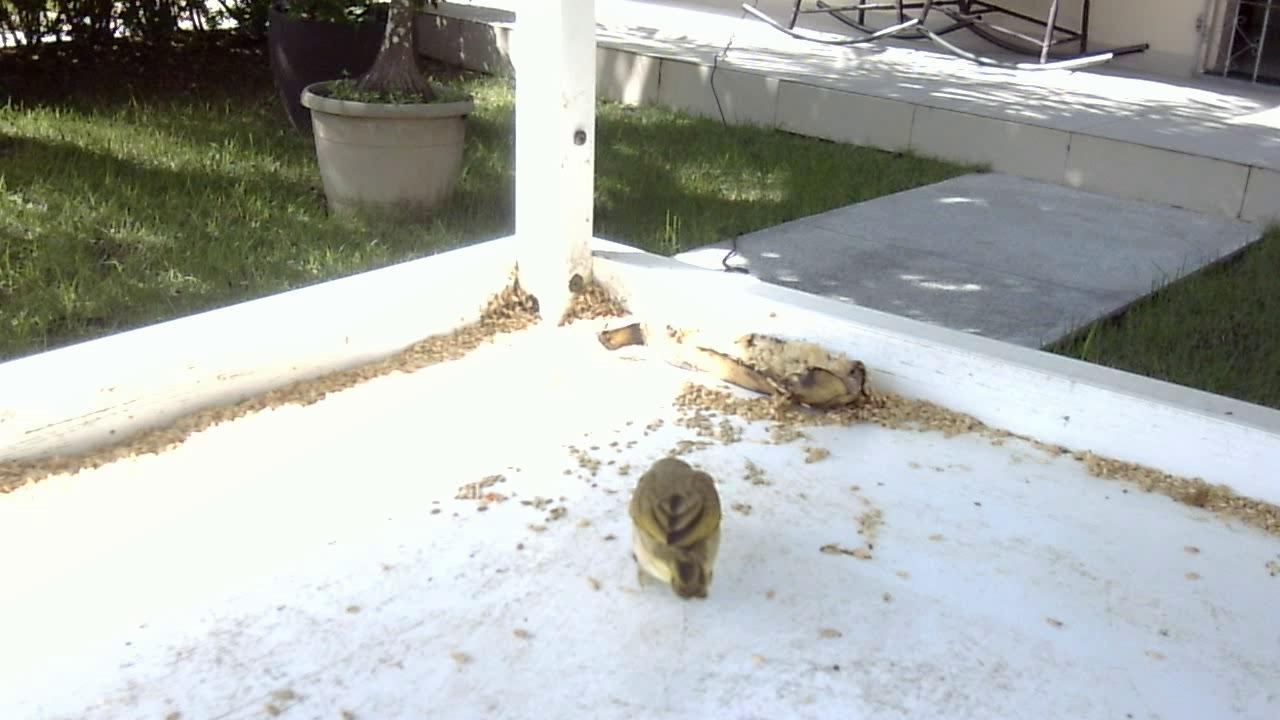canario_do_amazonas: (621, 449, 731, 608)
